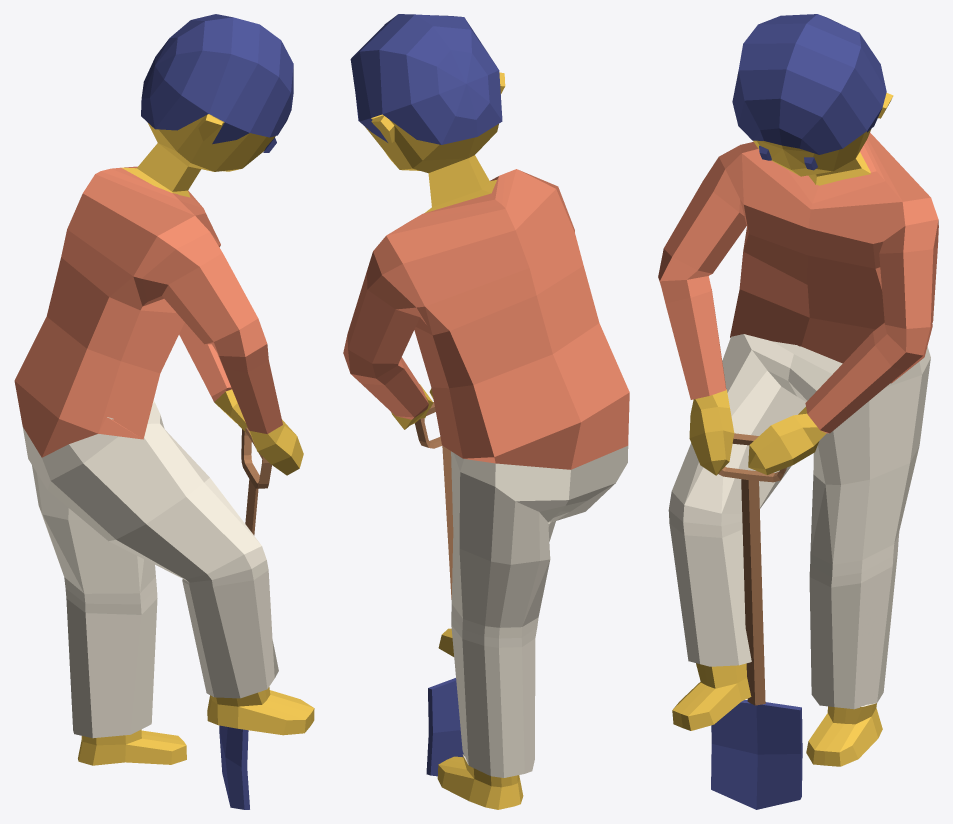
The model's file is 106_スコップで掘る(Man).glb.
3 renders of one model, left to right at view 1: azimuth 30°, elevation 25°; view 2: azimuth 150°, elevation 25°; view 3: azimuth 270°, elevation 25°, orthographic. The views are drawn at different scales.
Visible parts, largest first — view 1: 立方体037_2, 立方体037_3, 立方体037, 立方体037_1, 立方体037_4, 立方体037_5; view 2: 立方体037_3, 立方体037_2, 立方体037, 立方体037_1, 立方体037_4, 立方体037_5; view 3: 立方体037_3, 立方体037_2, 立方体037, 立方体037_1, 立方体037_4, 立方体037_5.
Boxes of the visible parts, left/top/right/bottom form: 立方体037_2: left=23, top=401, right=278, bottom=738; 立方体037_3: left=14, top=166, right=282, bottom=457; 立方体037: left=141, top=14, right=293, bottom=152; 立方体037_1: left=78, top=114, right=314, bottom=765; 立方体037_4: left=219, top=725, right=249, bottom=809; 立方体037_5: left=241, top=427, right=271, bottom=535; 立方体037_3: left=343, top=169, right=629, bottom=469; 立方体037_2: left=451, top=446, right=628, bottom=777; 立方体037: left=350, top=14, right=502, bottom=144; 立方体037_1: left=364, top=72, right=523, bottom=809; 立方体037_4: left=426, top=678, right=463, bottom=776; 立方体037_5: left=415, top=402, right=453, bottom=599; 立方体037_3: left=658, top=132, right=938, bottom=433; 立方体037_2: left=668, top=334, right=930, bottom=709; 立方体037: left=732, top=14, right=886, bottom=170; 立方体037_1: left=672, top=75, right=893, bottom=766; 立方体037_4: left=711, top=700, right=802, bottom=809; 立方体037_5: left=718, top=433, right=786, bottom=705.
Size of the model in its own units: 0.7185 by 2.07 by 0.6599.
